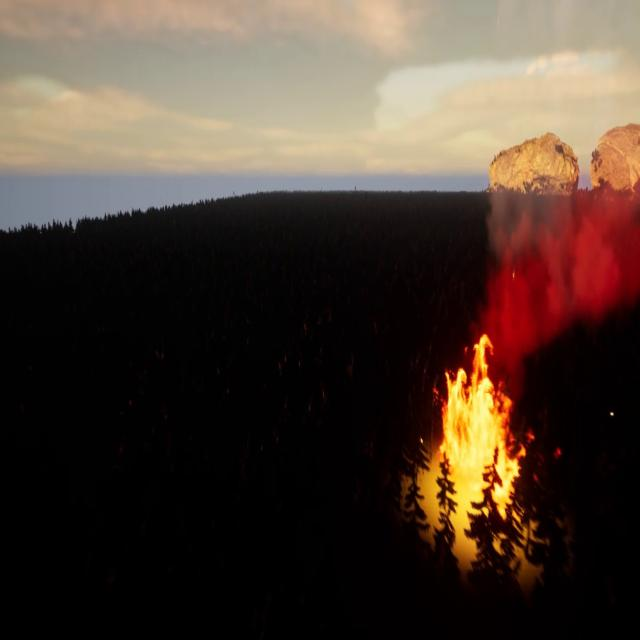fire: (439, 327, 525, 498)
smoke: (482, 159, 640, 371)
